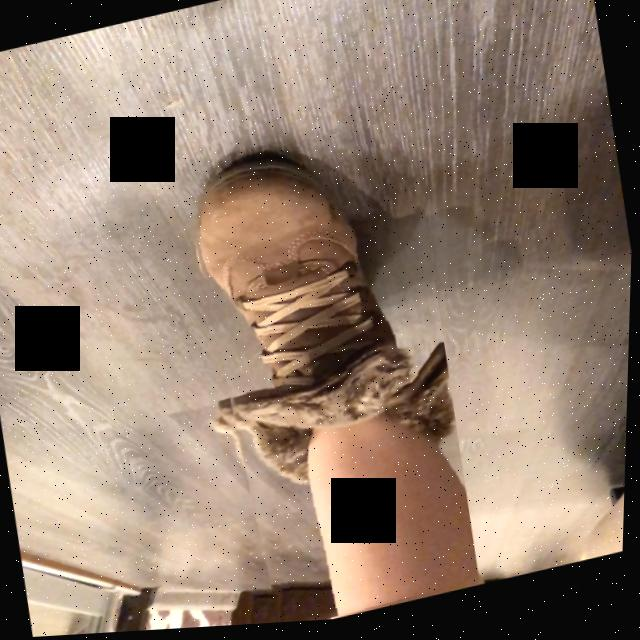shoe: (198, 153, 483, 620)
